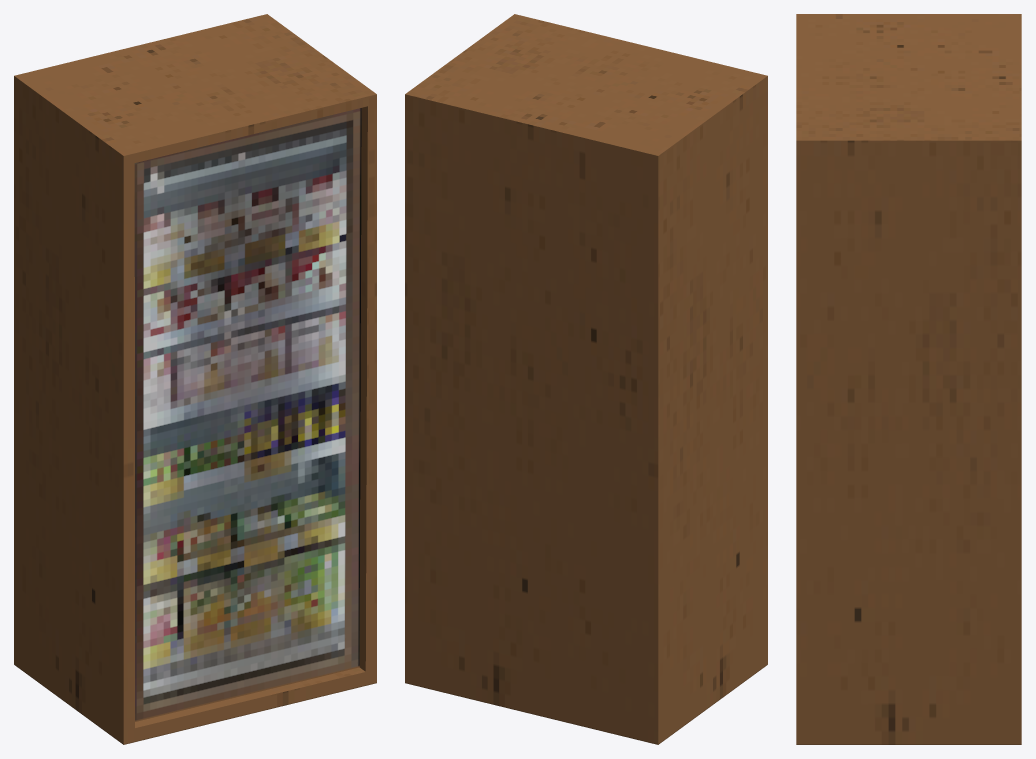
Rendered from Refrigerador.002.fbx.
The picture shows the model from 3 angles, left to right: view 1: azimuth 30°, elevation 25°; view 2: azimuth 150°, elevation 25°; view 3: azimuth 270°, elevation 25°; orthographic projection. The views are drawn at different scales.
Visible parts, largest first — view 1: Refrigerador_002; view 2: Refrigerador_002; view 3: Refrigerador_002.
Part boxes in pixels (<box>): Refrigerador_002: <box>14,14,376,744</box>; Refrigerador_002: <box>405,14,767,744</box>; Refrigerador_002: <box>796,14,1021,744</box>.
Bounding box in the file's own units: 90 × 200 × 67.5.
Materials: 1 (1 with a texture image).
